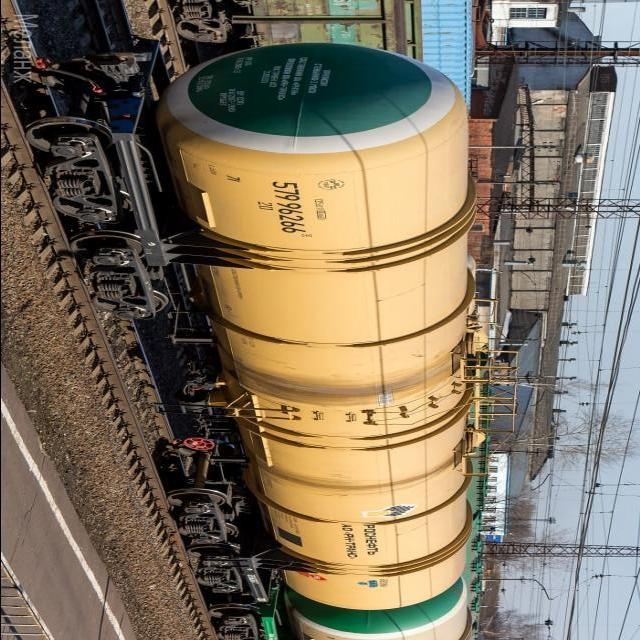wagon: (270, 180, 310, 234)
